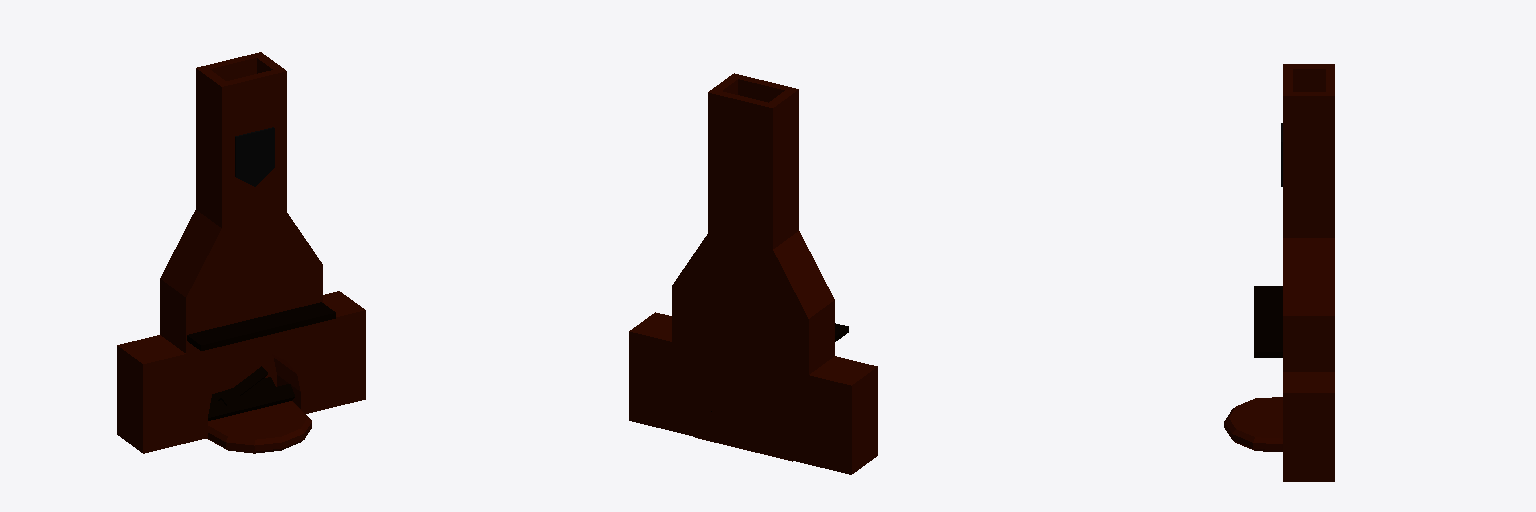
Rendered from FirePlace.obj.
3 views of the same model, side by side, from view 1: azimuth 30°, elevation 25°; view 2: azimuth 150°, elevation 25°; view 3: azimuth 270°, elevation 25° (orthographic).
Visible parts, largest first — view 1: FirePlace_Cube.013; view 2: FirePlace_Cube.013; view 3: FirePlace_Cube.013.
Boxes of the visible parts, <box> form: FirePlace_Cube.013: <box>117,52,365,453</box>; FirePlace_Cube.013: <box>629,73,877,474</box>; FirePlace_Cube.013: <box>1224,64,1334,481</box>.
Bounding box in the file's own units: 4.31 × 6.5 × 1.86.